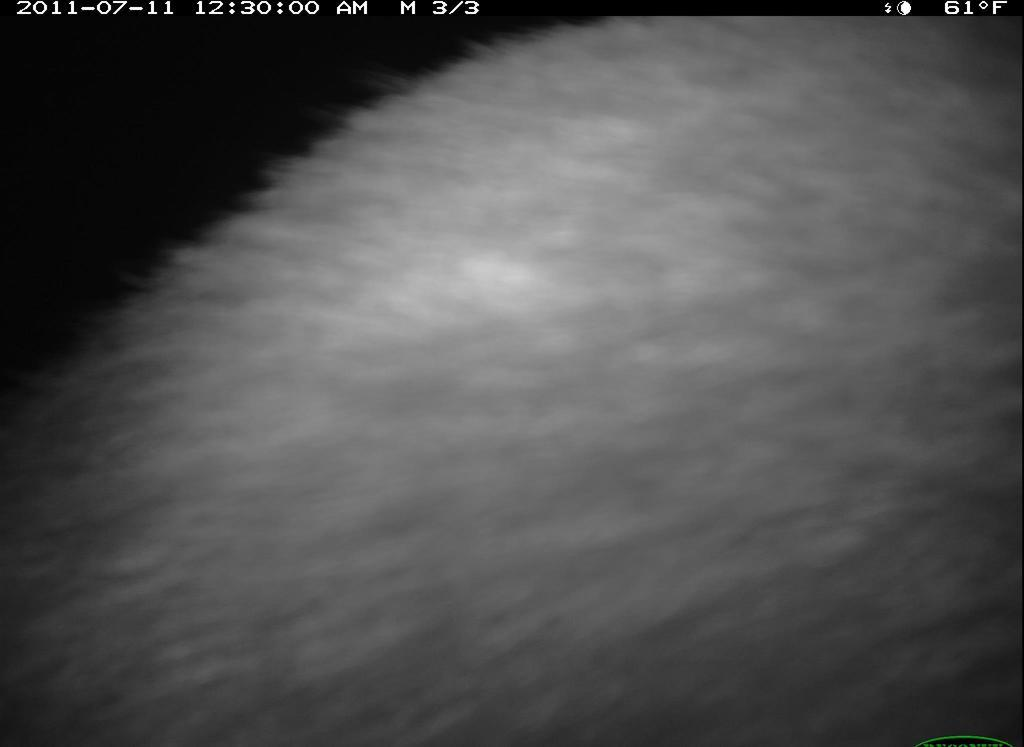raccoon: (63, 12, 1014, 744)
